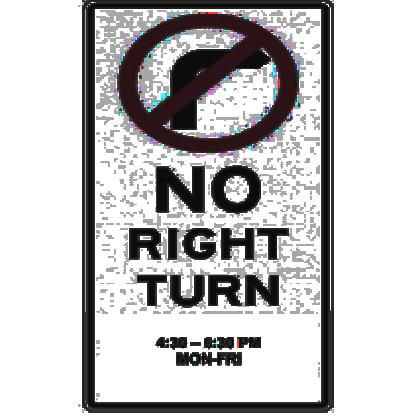No right turn: (114, 10, 298, 149)
